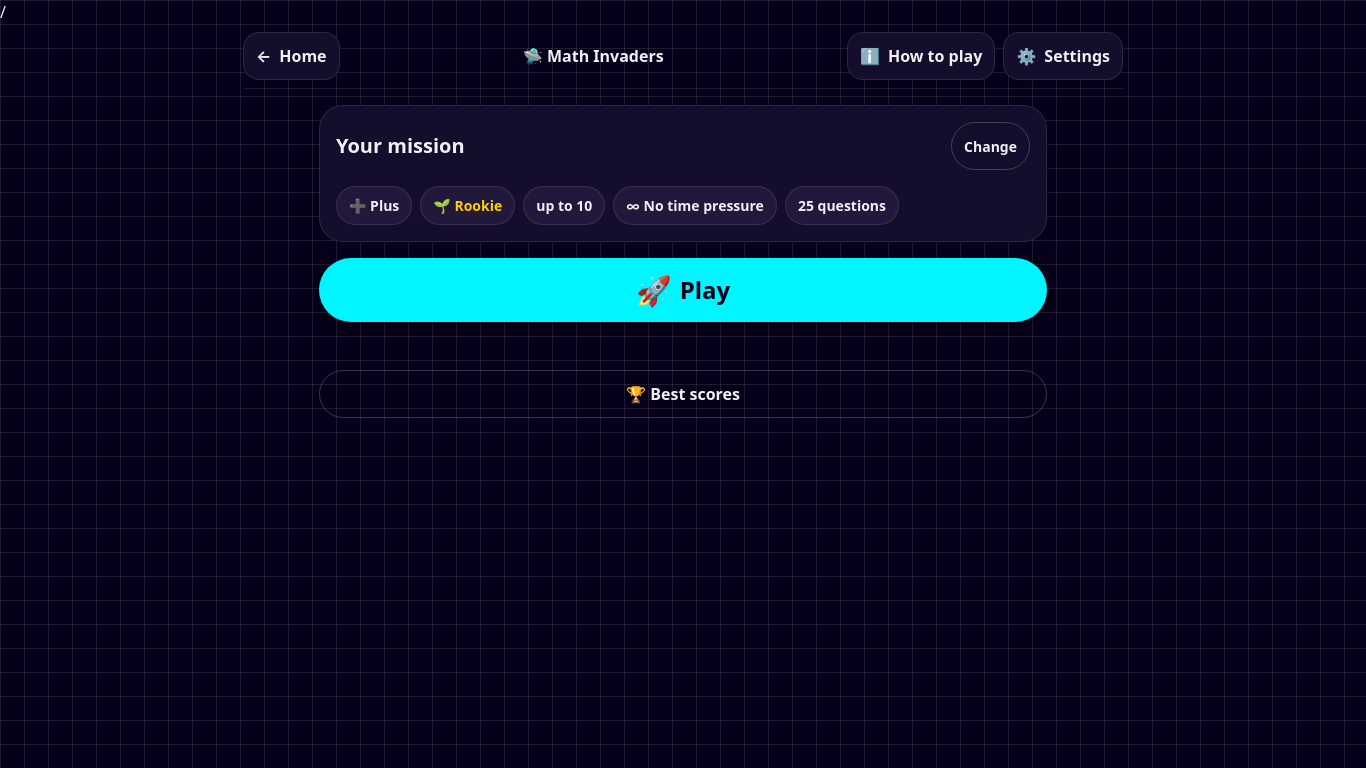
Test case: ArcadePage › opens and closes the rules without leaving the hub
Click the button "ℹ️ How to play": (921, 56) [847,32,995,80]
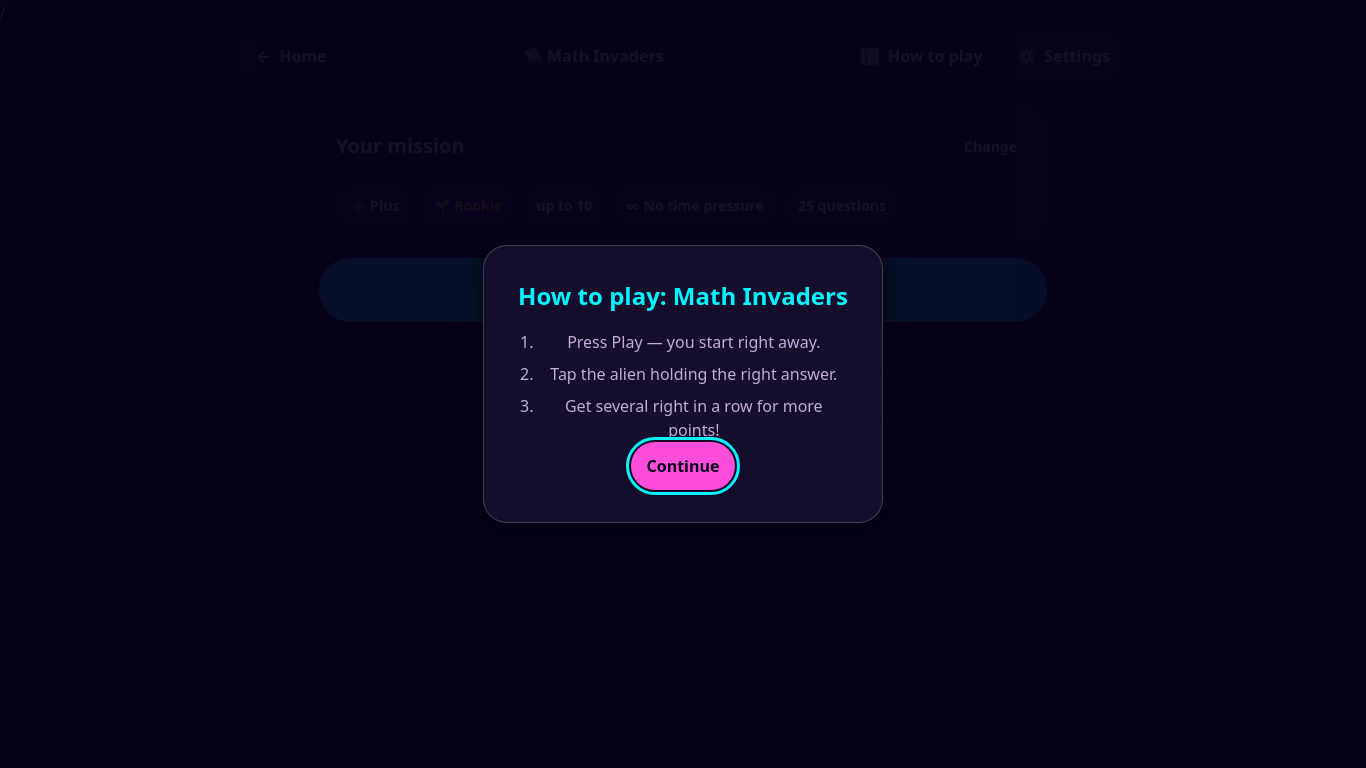
Expected: the dialog "How to play: Math Invaders" is shown
Click the button "Continue": (683, 466) [630,442,735,490]
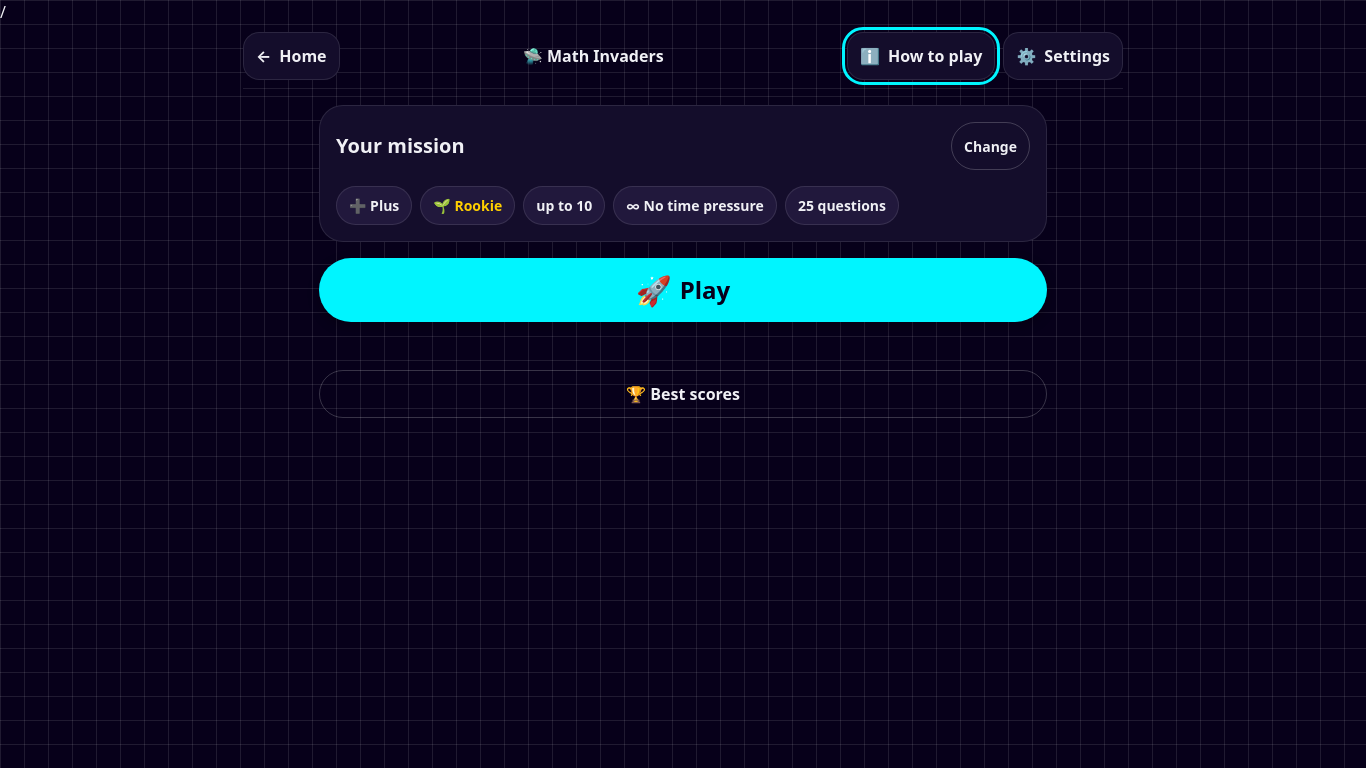
Expected: the dialog is gone
